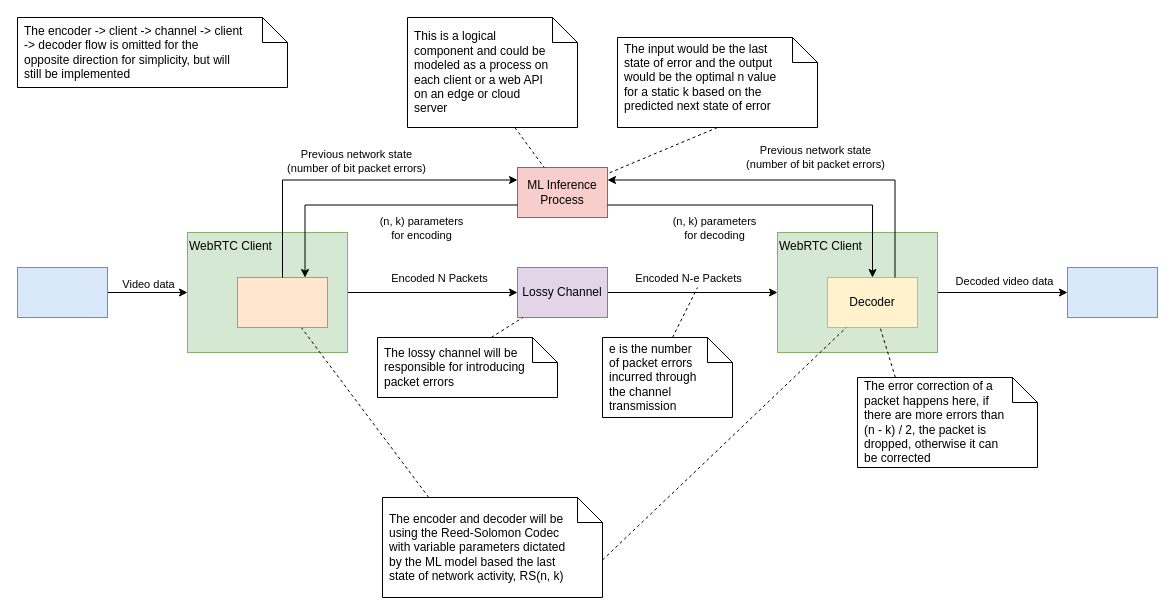
This 1175x615 diagram has some shape labels left out. The centre of each missing label's shape, as x and y in pixels:
Encoder: the point at 282,302
Peer1: the point at 62,292
Peer2: the point at 1112,292
